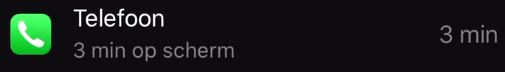name: (72, 1, 170, 34)
time: (72, 34, 129, 70)
